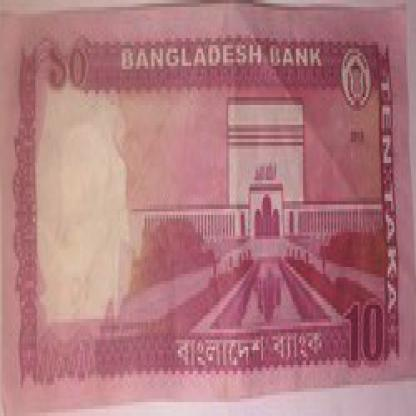Ten Taka: (342, 284, 388, 374), (43, 38, 93, 97)
